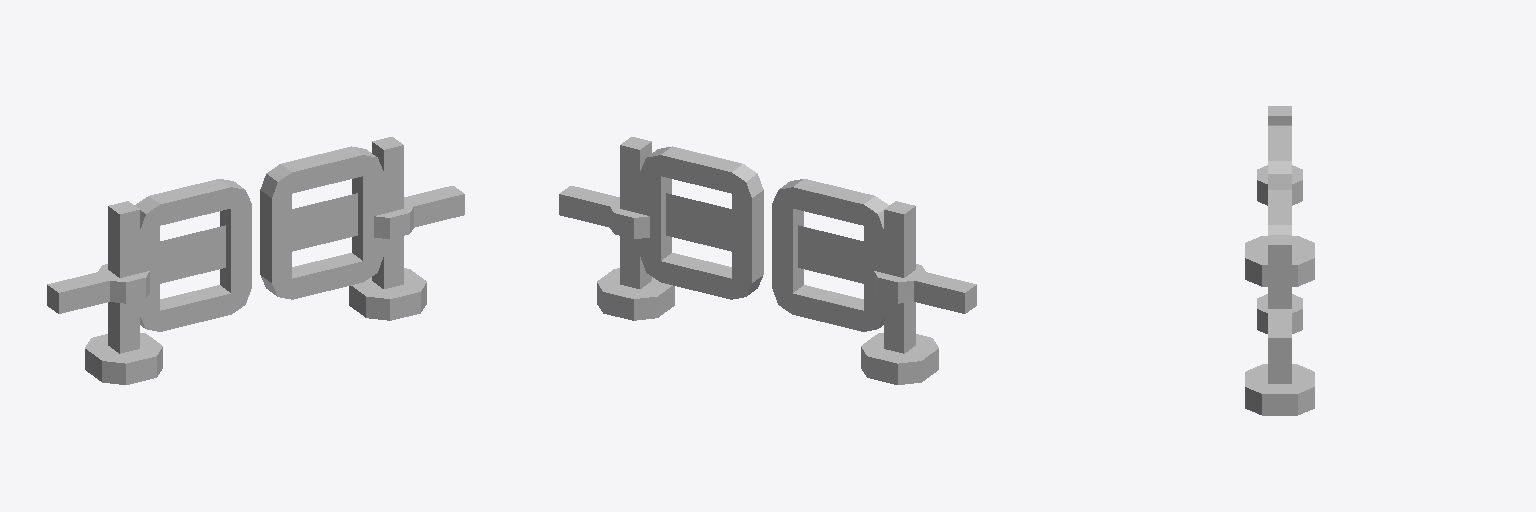
File: fence-door-rotate.obj
The picture shows the model from 3 angles: view 1: azimuth 30°, elevation 25°; view 2: azimuth 150°, elevation 25°; view 3: azimuth 270°, elevation 25°; orthographic projection.
Visible parts, largest first — view 1: fence-door-rotate, door-right, door-left; view 2: fence-door-rotate, door-right, door-left; view 3: fence-door-rotate, door-left, door-right.
Part boxes in pixels (x1,y1,x2,y2): fence-door-rotate: (47, 137, 464, 384); door-right: (260, 146, 383, 299); door-left: (135, 179, 251, 331); fence-door-rotate: (559, 137, 976, 384); door-right: (640, 146, 763, 299); door-left: (772, 179, 888, 331); fence-door-rotate: (1245, 106, 1314, 415); door-left: (1268, 125, 1291, 189); door-right: (1268, 190, 1291, 234).
Bounding box in the file's own units: 1 × 0.379 × 0.15.